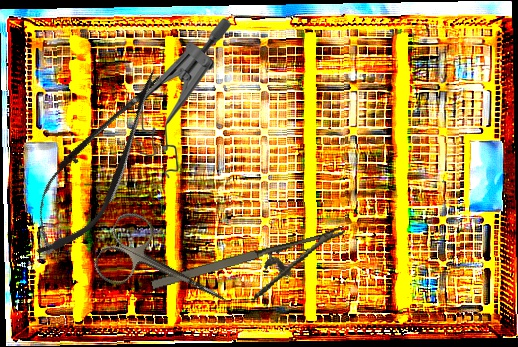Iris Scissors: (89, 205, 244, 336)
Micro Scissor: (11, 54, 185, 272)
Needle Holder: (149, 226, 356, 322)
Speculum: (138, 18, 232, 180)
